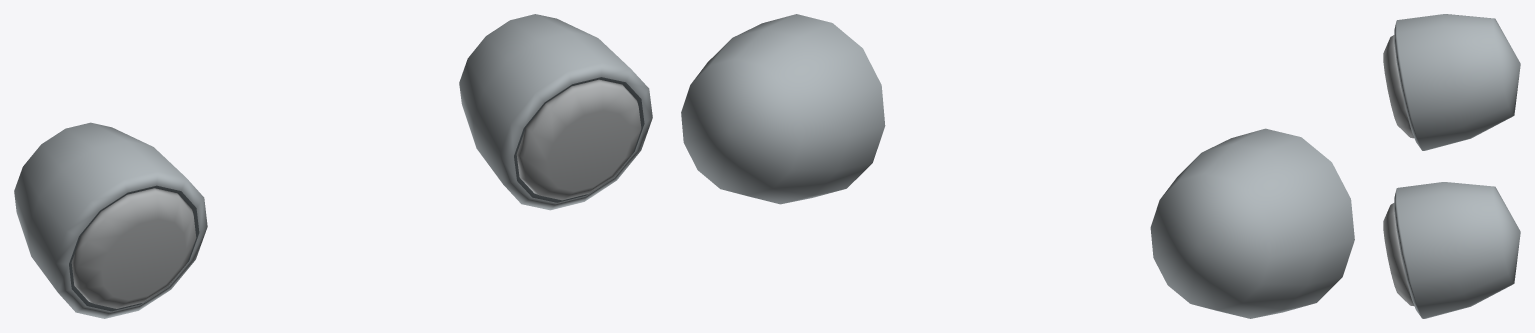
The model's file is Car_02_FogLight.fbx.
The picture shows the model from 3 angles, left to right: view 1: azimuth 30°, elevation 25°; view 2: azimuth 150°, elevation 25°; view 3: azimuth 270°, elevation 25°; orthographic projection. The views are drawn at different scales.
Parts seen in each view (by area): view 1: Car_02_FogLight; view 2: Car_02_FogLight; view 3: Car_02_FogLight.
Boxes of the visible parts, left/top/right/bottom form: Car_02_FogLight: left=14, top=14, right=652, bottom=318; Car_02_FogLight: left=681, top=14, right=1354, bottom=318; Car_02_FogLight: left=1383, top=14, right=1520, bottom=318.
Size of the model in its own units: 102 by 26.3 by 26.28.
